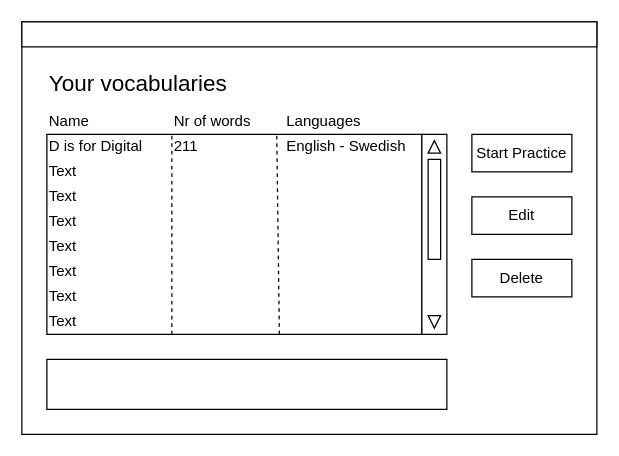
Some shapes in this 619 by 456 pixel diagram are drawn without their labels. The centre of each missing label's shape, as x and y in pixels:
"Create new vocabulary" goes at [246,383].
"UpVocabulary" goes at [309,34].
